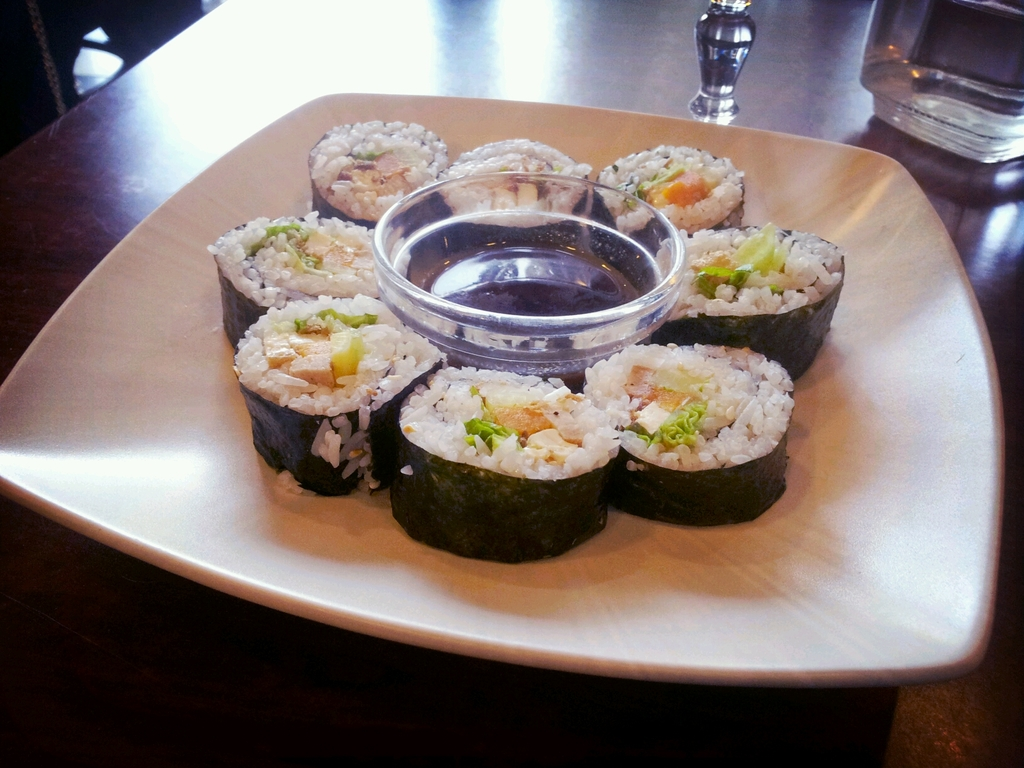sushi: (210, 124, 845, 566), (392, 356, 627, 569)
